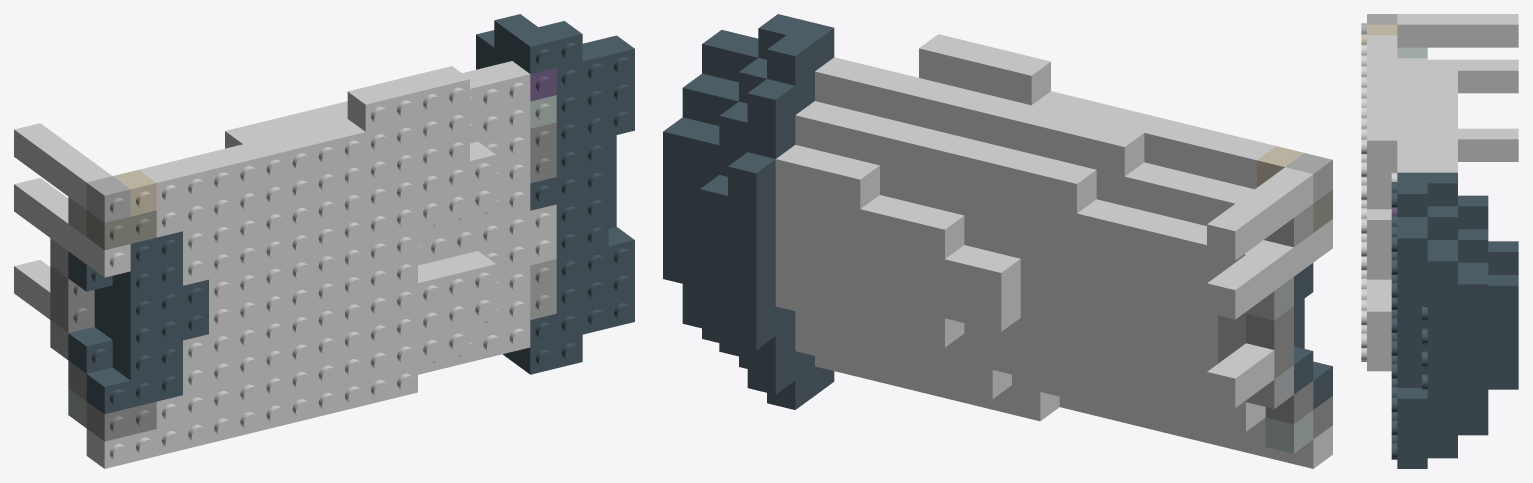
File: full.glb
3 renders of one model, left to right at view 1: azimuth 30°, elevation 25°; view 2: azimuth 150°, elevation 25°; view 3: azimuth 270°, elevation 25°, orthographic. The views are drawn at different scales.
Parts seen in each view (by area): view 1: world; view 2: world; view 3: world.
Part boxes in pixels (bbox=[...]): world: bbox=[14, 14, 634, 468]; world: bbox=[663, 14, 1332, 468]; world: bbox=[1361, 14, 1518, 468].
Bounding box in the file's own units: 168 × 96 × 49.8.
